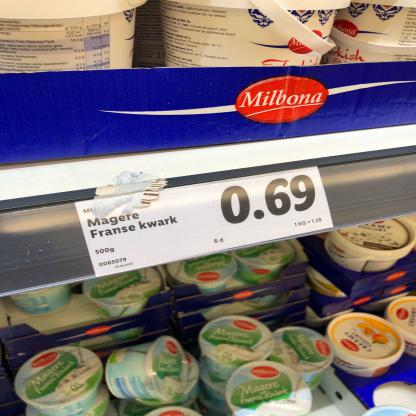prtg: (75, 168, 334, 278)
